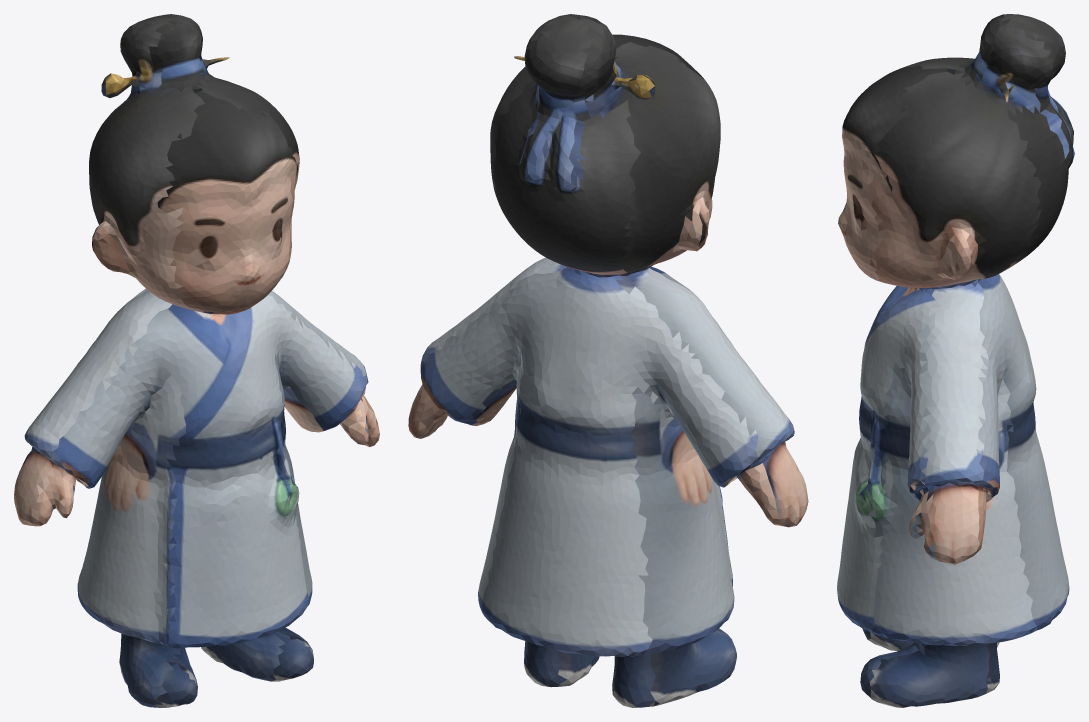
File: nhan-vat.glb
3 renders of one model, left to right at view 1: azimuth 30°, elevation 25°; view 2: azimuth 150°, elevation 25°; view 3: azimuth 270°, elevation 25°, orthographic. The views are drawn at different scales.
Parts seen in each view (by area): view 1: out.ply; view 2: out.ply; view 3: out.ply.
Part boxes in pixels (bbox=[...]): out.ply: bbox=[14, 14, 379, 707]; out.ply: bbox=[408, 14, 808, 707]; out.ply: bbox=[837, 14, 1074, 707].
Size of the model in its own units: 1.16 by 1.98 by 0.6561.
1 material, 1 textured.
